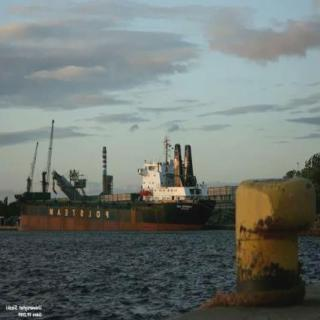Bulk Carrier: (7, 136, 222, 234)
